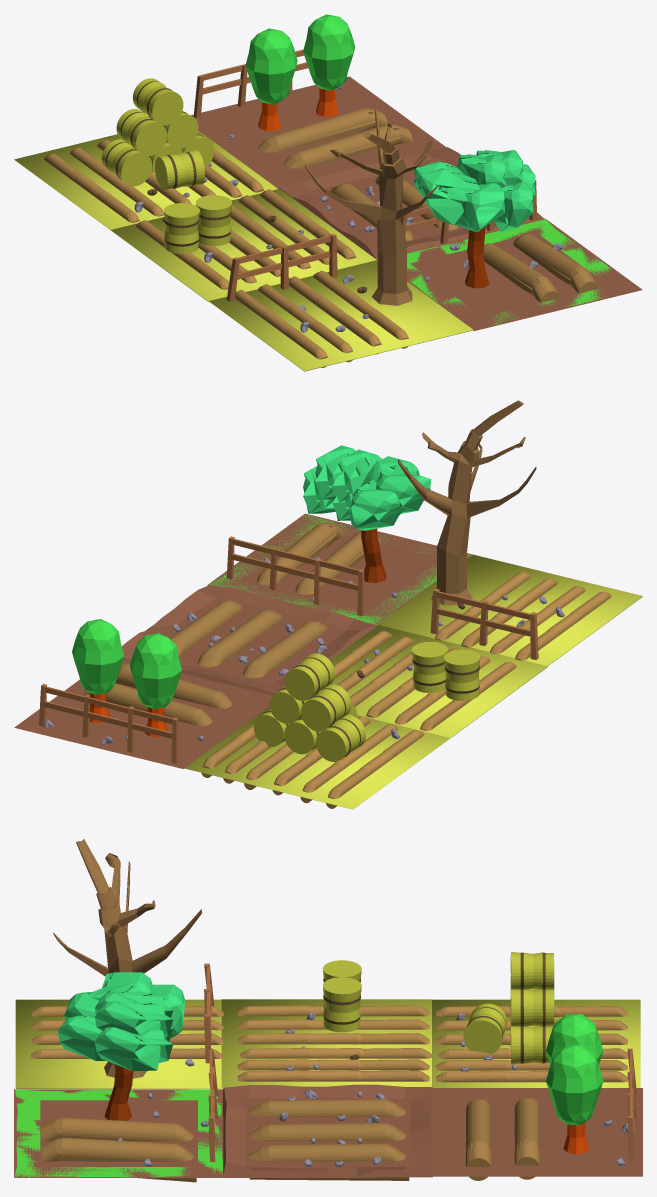
Rendered from FIELDALLflat.fbx.
The picture shows the model from 3 angles, top to bottom: view 1: azimuth 30°, elevation 25°; view 2: azimuth 150°, elevation 25°; view 3: azimuth 270°, elevation 25°; orthographic projection. The views are drawn at different scales.
Visible parts, largest first — view 1: Cube, Plane.003, Cube.033, Cylinder.016, Plane, Cube.060; view 2: Cube, Plane.003, Cube.033, Cylinder.016, Plane, Cube.060; view 3: Cube, Cube.033, Cube.060, Plane, Cylinder.016, Plane.003.
Part boxes in pixels (x1=…): Cube: x1=401, y1=150, x2=642, y2=330; Plane.003: x1=209, y1=109, x2=473, y2=371; Cube.033: x1=191, y1=14, x2=445, y2=188; Cylinder.016: x1=14, y1=78, x2=277, y2=230; Plane: x1=111, y1=189, x2=376, y2=301; Cube.060: x1=279, y1=147, x2=544, y2=259; Cube: x1=207, y1=445, x2=472, y2=625; Plane.003: x1=377, y1=400, x2=642, y2=666; Cube.033: x1=14, y1=619, x2=272, y2=768; Cylinder.016: x1=184, y1=653, x2=450, y2=809; Plane: x1=319, y1=625, x2=547, y2=738; Cube.060: x1=122, y1=585, x2=377, y2=695; Cube: x1=14, y1=972, x2=223, y2=1182; Cube.033: x1=433, y1=1014, x2=642, y2=1180; Cube.060: x1=223, y1=1084, x2=432, y2=1180; Plane: x1=221, y1=960, x2=431, y2=1087; Cylinder.016: x1=432, y1=952, x2=640, y2=1087; Plane.003: x1=15, y1=839, x2=223, y2=1088.
Size of the model in its own units: 2004 by 1301 by 2992.
